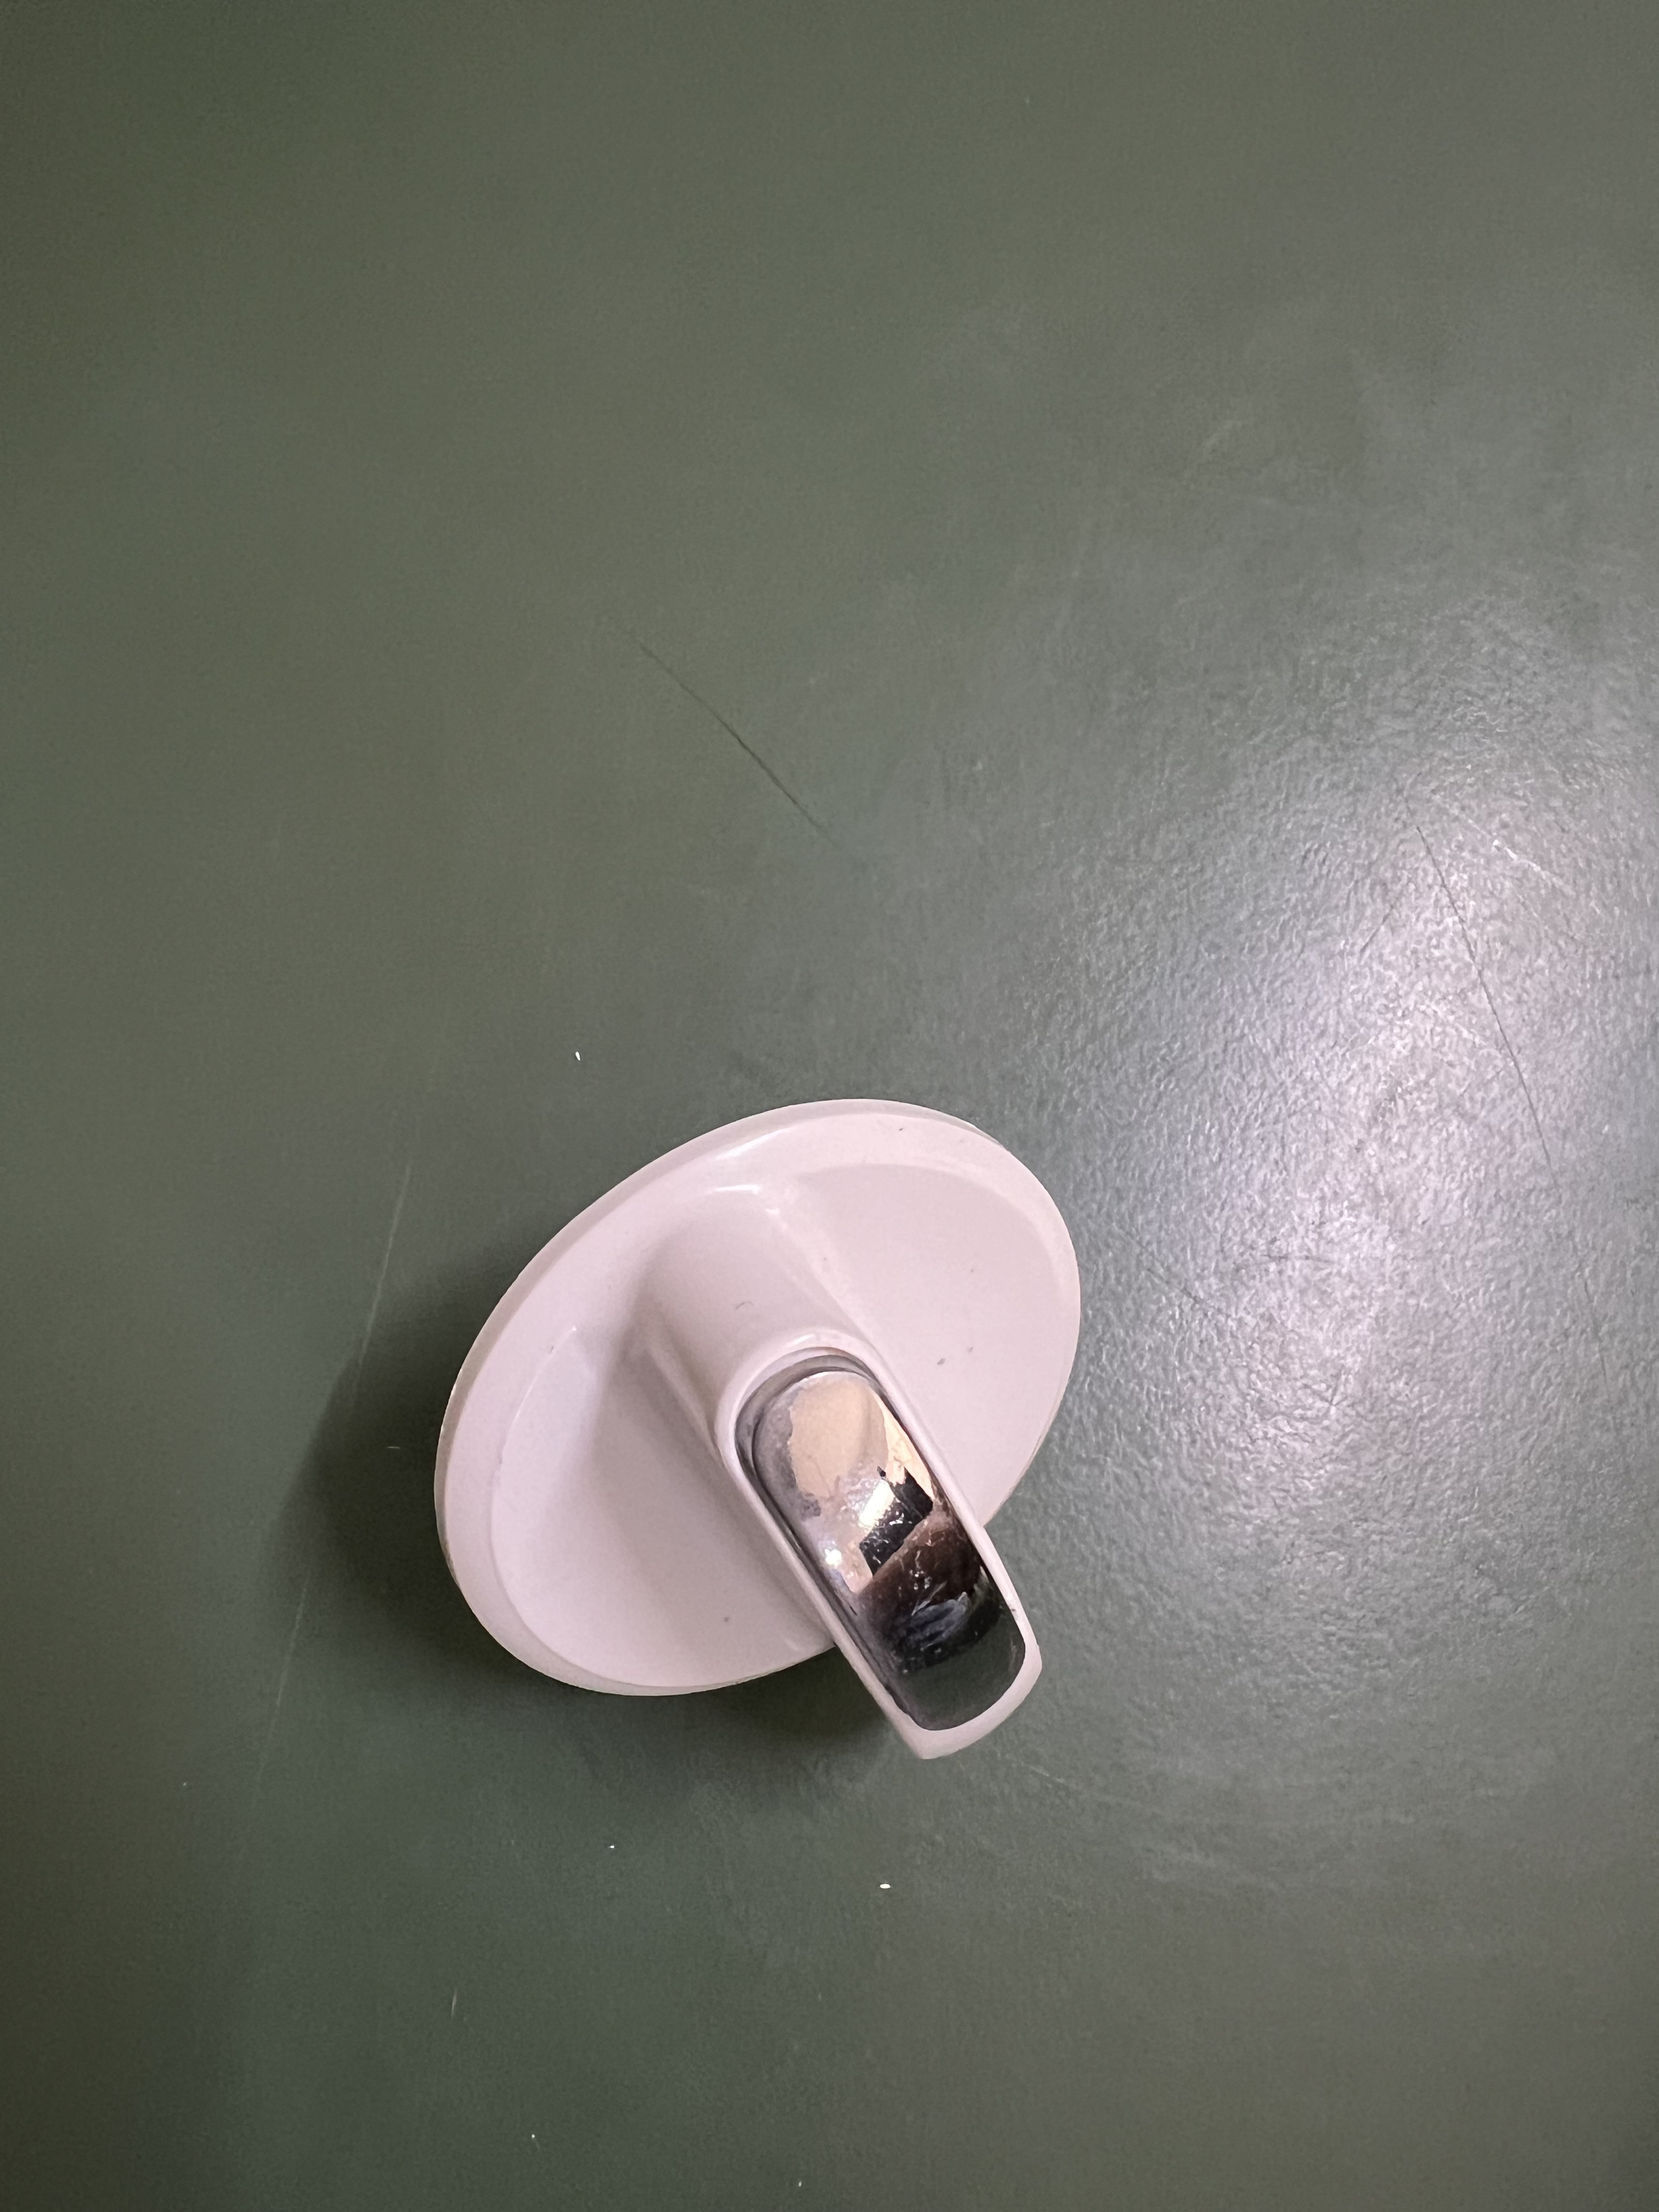regulator: (396, 1082, 1096, 1778)
